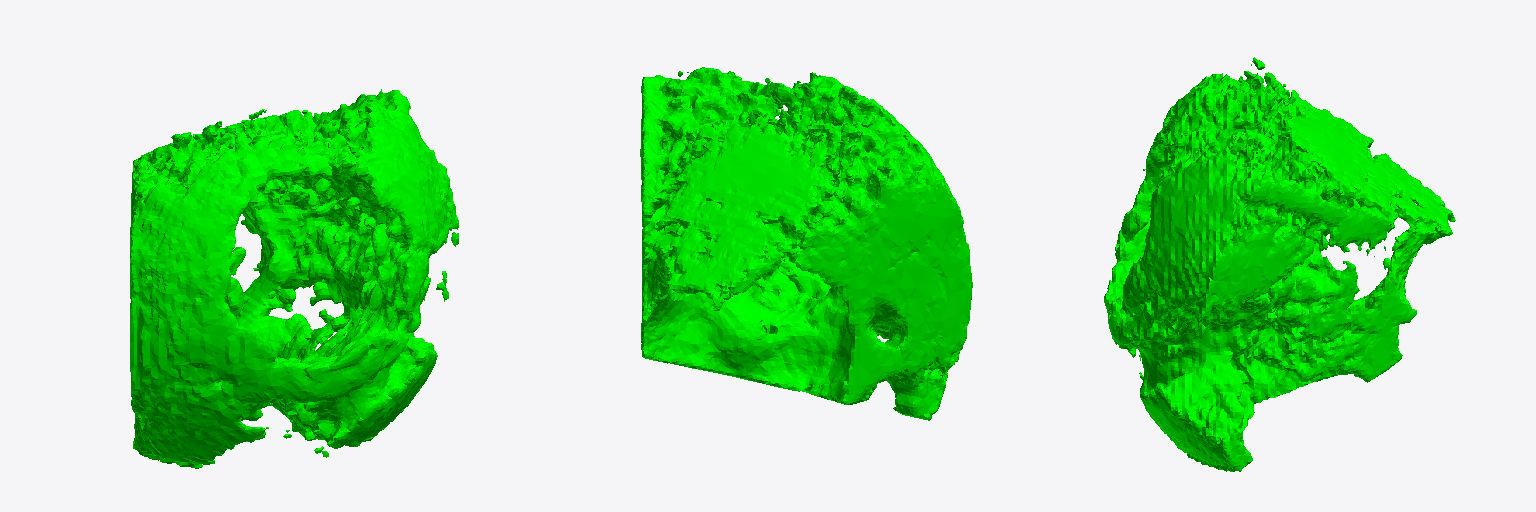
File: B939XXXX-1_base_37.obj
3 renders of one model, left to right at view 1: azimuth 30°, elevation 25°; view 2: azimuth 150°, elevation 25°; view 3: azimuth 270°, elevation 25°, orthographic.
Visible parts, largest first — view 1: 37_base; view 2: 37_base; view 3: 37_base.
Boxes of the visible parts, x1,y1,x2,y2 form: 37_base: [130, 89, 458, 468]; 37_base: [640, 67, 972, 420]; 37_base: [1104, 57, 1455, 471].
Bounding box in the file's own units: 220 × 217 × 204.